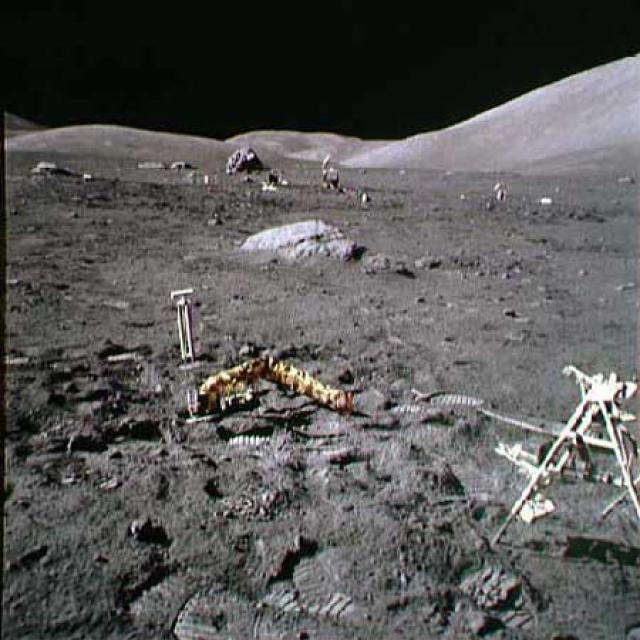artifact: (485, 354, 639, 544), (165, 285, 357, 424), (316, 151, 345, 190)
rock: (230, 210, 362, 260), (222, 142, 271, 175), (27, 155, 62, 175)
